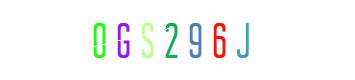0: (59, 0, 139, 80)
2: (131, 0, 211, 80)
6: (173, 0, 253, 80)
9: (137, 0, 217, 80)
G: (83, 0, 163, 80)
J: (179, 0, 259, 80)
S: (120, 0, 200, 80)
